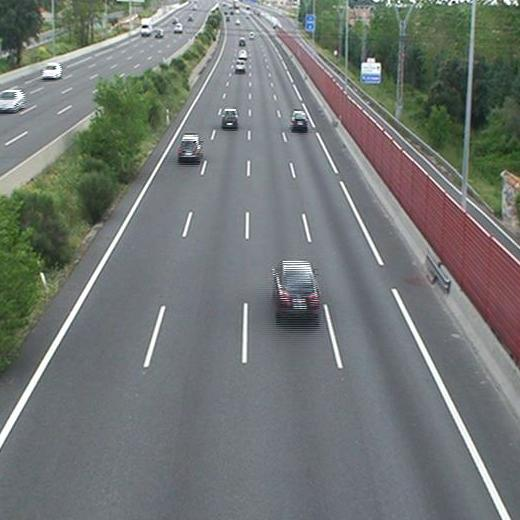car: (274, 262, 319, 315), (179, 135, 201, 161), (292, 111, 308, 129), (221, 110, 237, 127), (238, 49, 247, 59), (236, 61, 245, 71), (237, 37, 245, 45)
